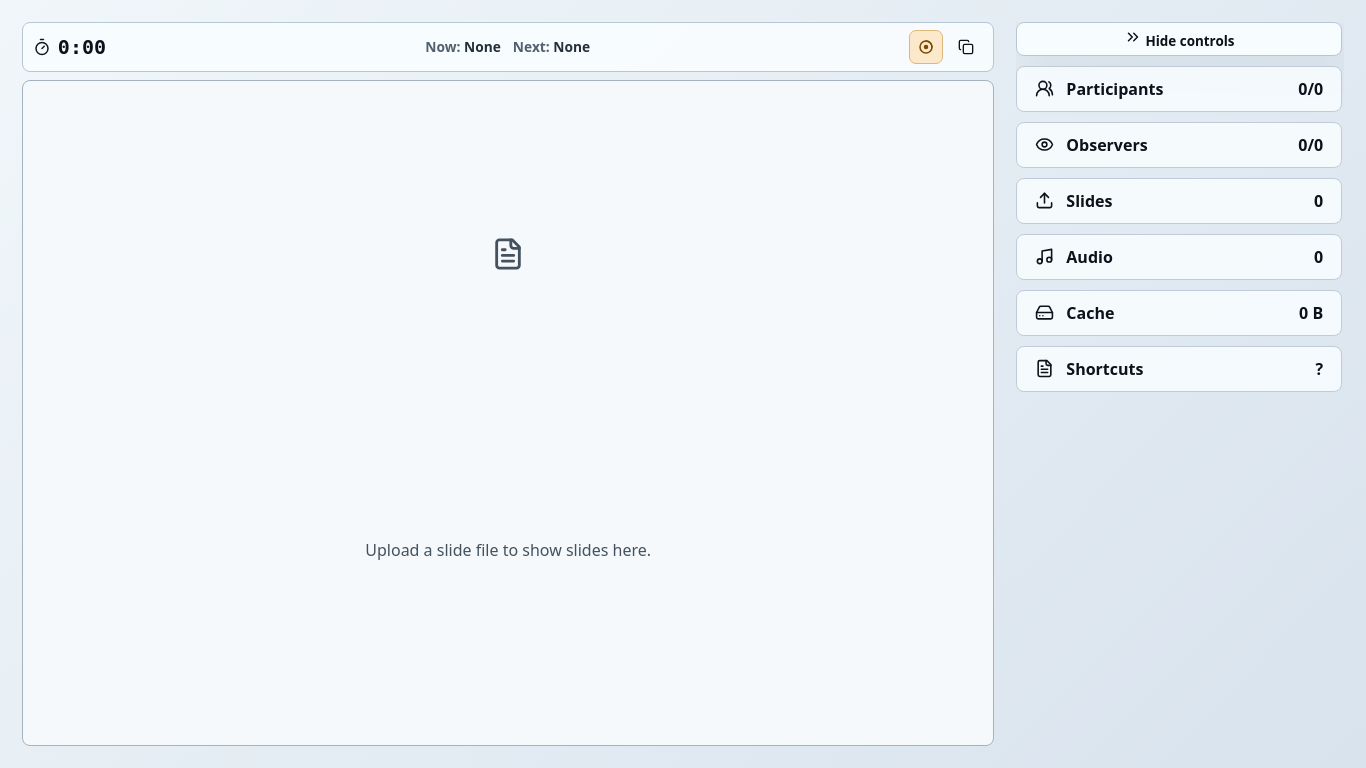
Test: App landing polish › shows room retention controls to admin participants
Click the button "Cache 0 B" at (1090, 313), box [1017,291,1341,335]
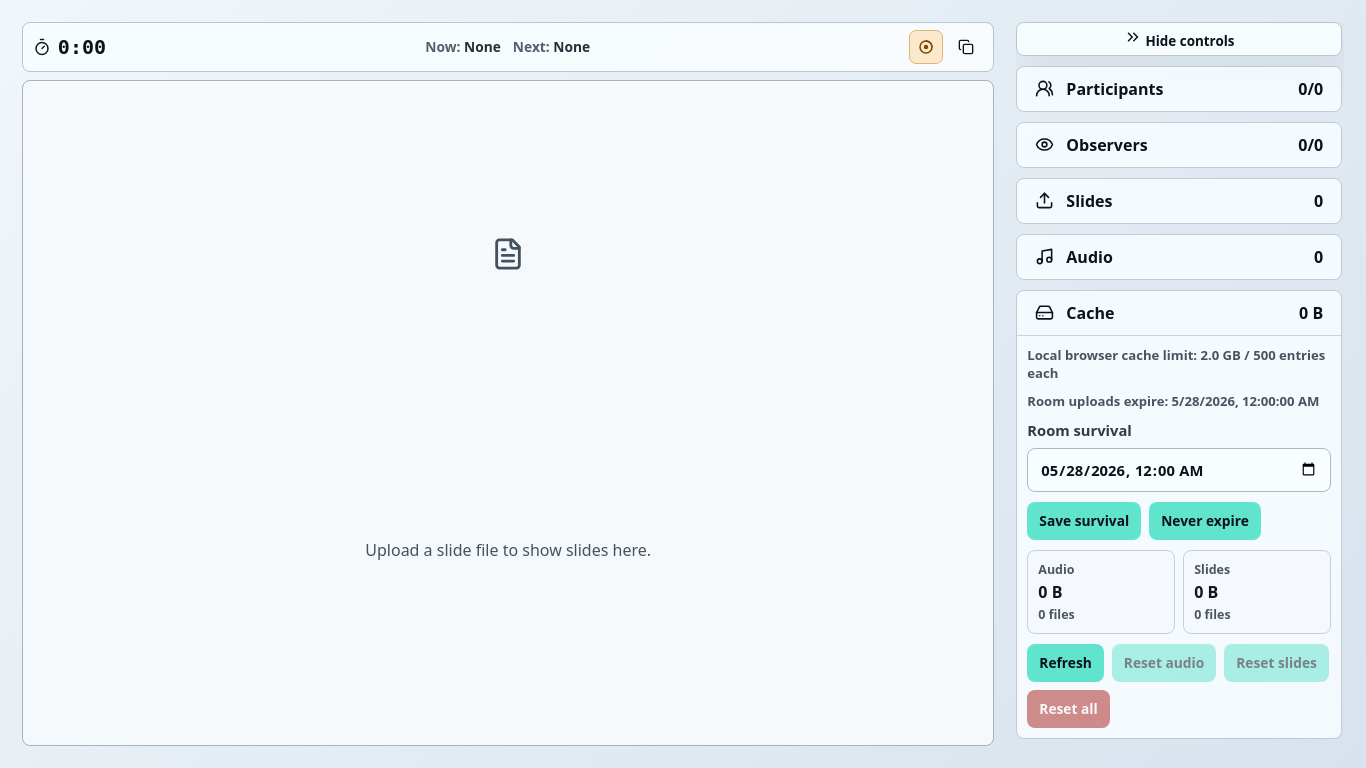
Expected: the text "Room survival" is shown, [1027,420,1331,492]
Expected: the button "Never expire" is shown, [1149,502,1261,540]
